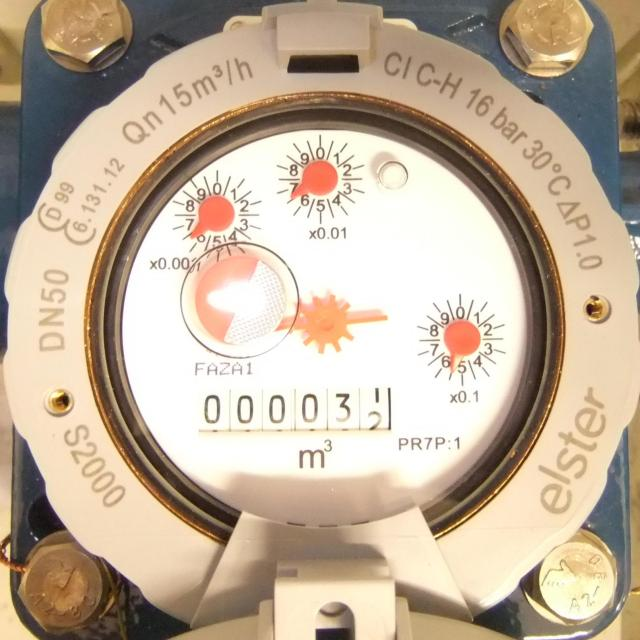gaz_meter: (6, 12, 633, 622)
indication: (190, 383, 394, 437)
